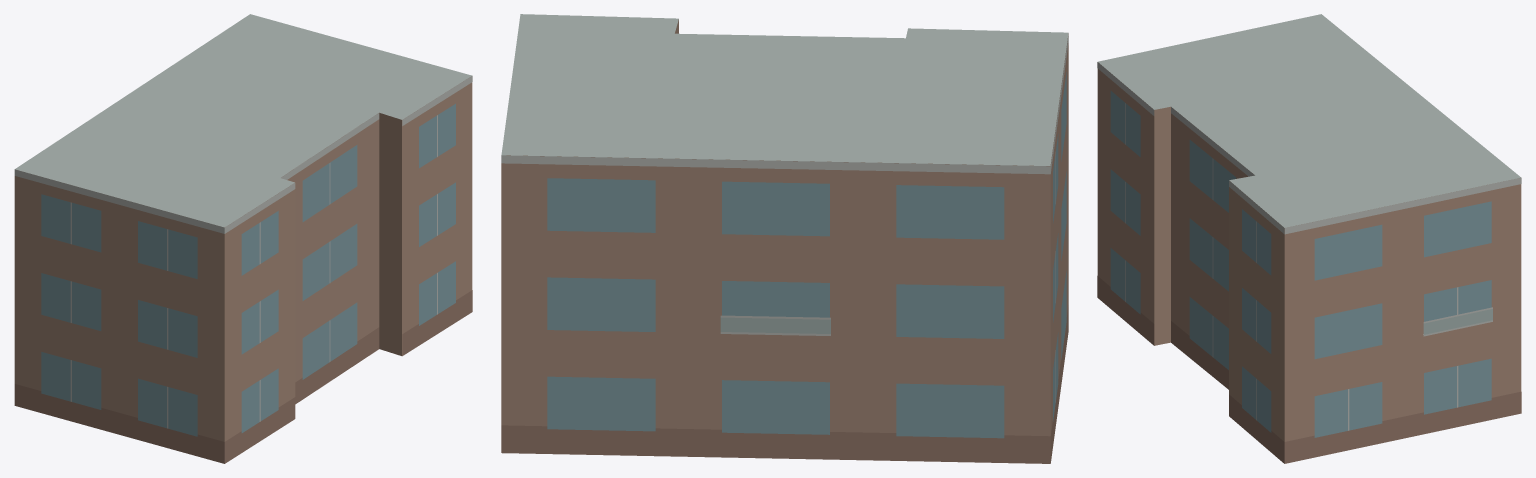
The model's file is survey-upis-32891469.glb.
The picture shows the model from 3 angles, left to right: view 1: azimuth 30°, elevation 25°; view 2: azimuth 150°, elevation 25°; view 3: azimuth 270°, elevation 25°; orthographic projection. The views are drawn at different scales.
Visible parts, largest first — view 1: survey-upis-32891469.tmp; view 2: survey-upis-32891469.tmp; view 3: survey-upis-32891469.tmp.
Boxes of the visible parts, x1=… form: survey-upis-32891469.tmp: x1=14, y1=14, x2=472, y2=463; survey-upis-32891469.tmp: x1=501, y1=14, x2=1068, y2=463; survey-upis-32891469.tmp: x1=1097, y1=14, x2=1521, y2=463.
Bounding box in the file's own units: 17.32 × 8.9 × 14.5.
